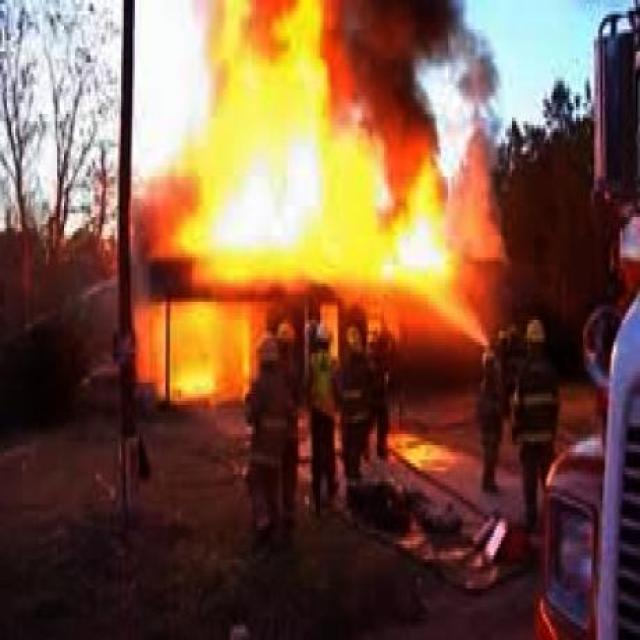Fire: (168, 2, 348, 304), (386, 164, 468, 311), (150, 308, 266, 400)
Smoke: (328, 0, 500, 164)
